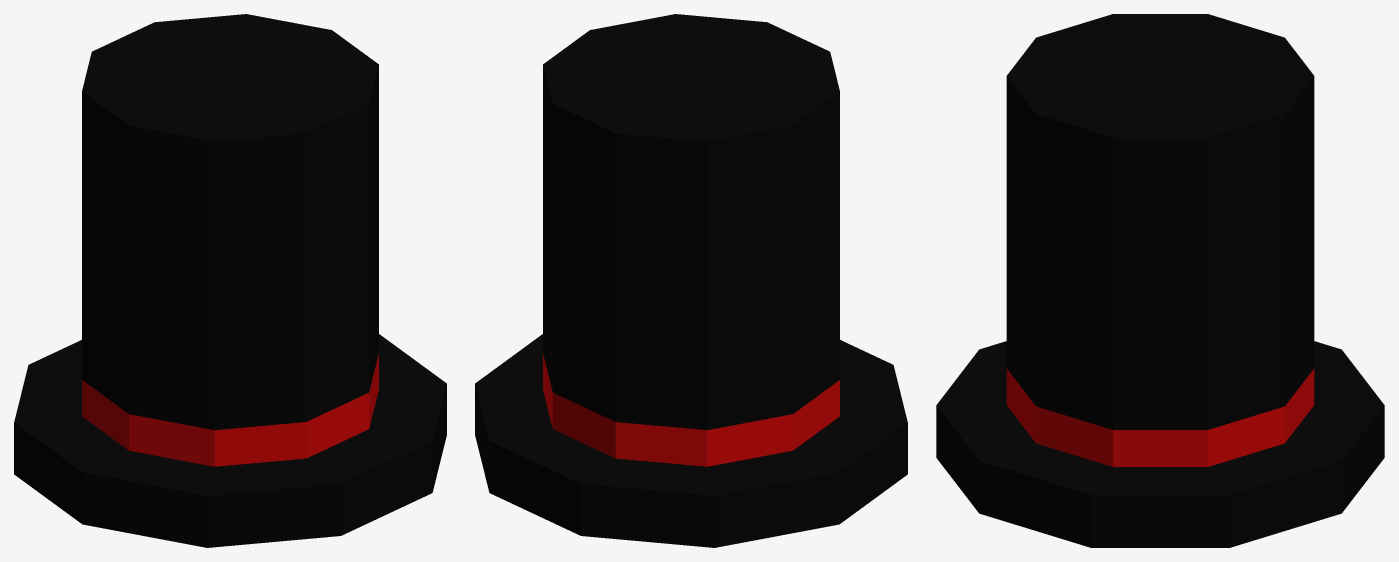
File: HighHat 1.fbx
3 renders of one model, left to right at view 1: azimuth 30°, elevation 25°; view 2: azimuth 150°, elevation 25°; view 3: azimuth 270°, elevation 25°, orthographic.
Parts seen in each view (by area): view 1: Cylinder; view 2: Cylinder; view 3: Cylinder.
Boxes of the visible parts, x1,y1,x2,y2 form: Cylinder: (14,14,446,547); Cylinder: (475,14,907,547); Cylinder: (936,14,1384,547).
Size of the model in its own units: 0.4669 by 0.4619 by 0.4909.
